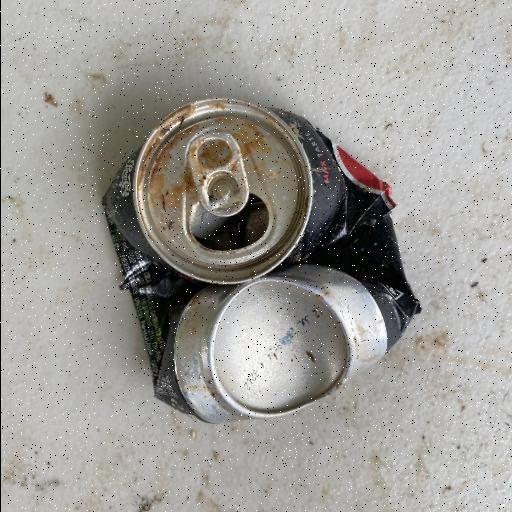Metal: (101, 95, 423, 426)
